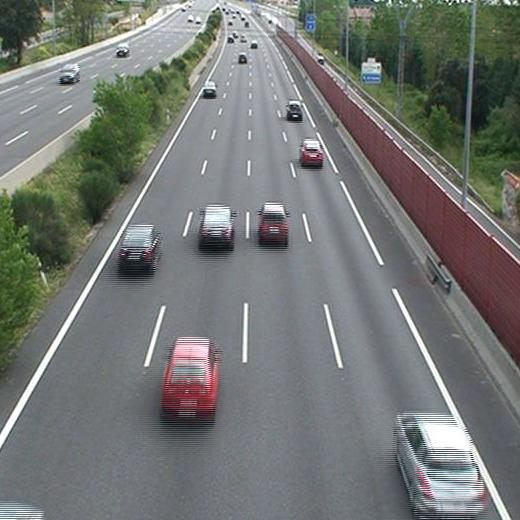car: (396, 416, 485, 513), (163, 337, 218, 411), (119, 226, 158, 264), (200, 205, 234, 242), (258, 203, 288, 238), (300, 140, 323, 163), (287, 102, 303, 119), (203, 81, 216, 94), (237, 53, 249, 63)
